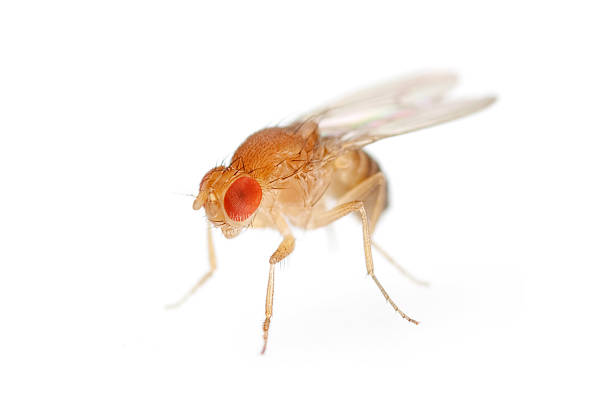Fruit fly: (179, 82, 448, 331)
